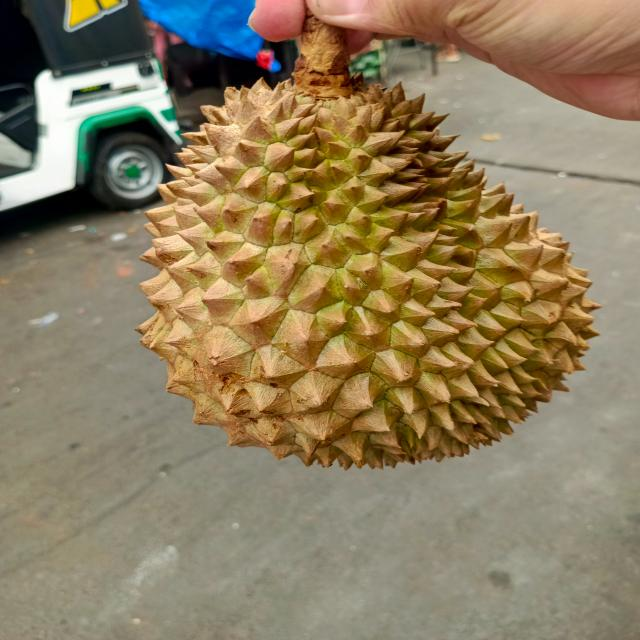mature: (138, 83, 599, 468)
